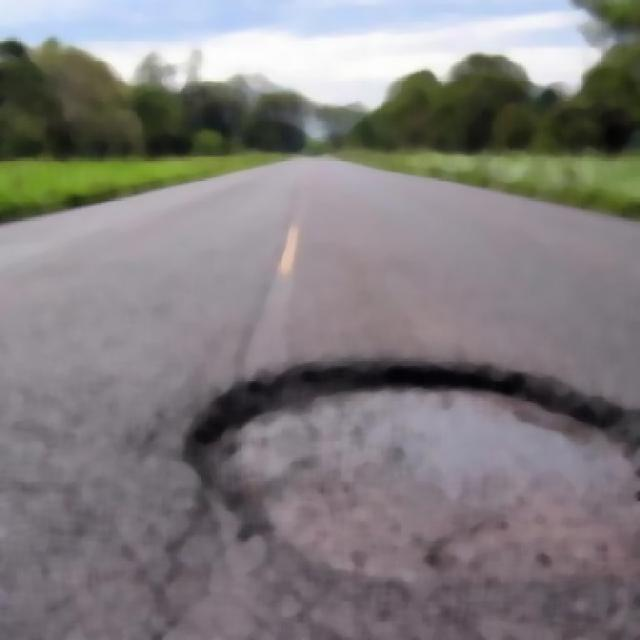Pothole: (175, 352, 640, 588)
